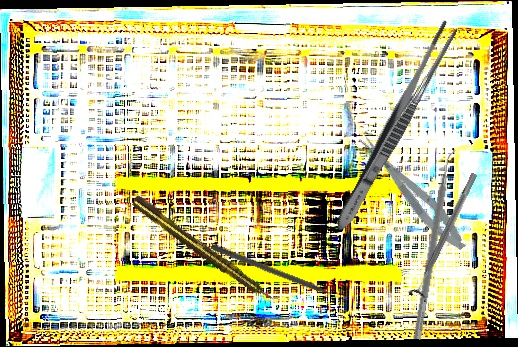Dressing Forceps: (330, 17, 461, 236)
Fixation Ring: (406, 169, 485, 303)
Handpiece: (129, 192, 281, 310)
Micro Scissor: (354, 127, 472, 257)
Pusher: (209, 243, 348, 305)
Spatula Surgical: (413, 147, 460, 342)
